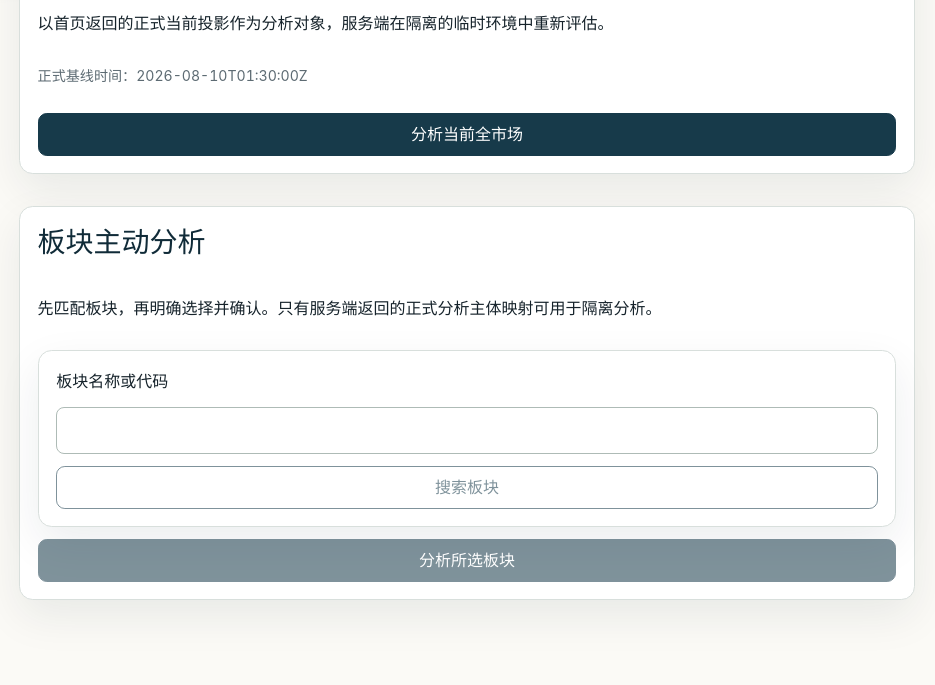
Scenario: isolated active analysis › does not start a market query while a sector match is pending
The image size is (935, 685).
(page scrolled)
Expected: the button "分析当前全市场" is enabled, top-left (38, 113), bottom-right (896, 156)
Type "半导体" into the field labelled "板块名称或代码".
click(467, 430); type("半导体")  # box top-left (56, 407), bottom-right (878, 454)
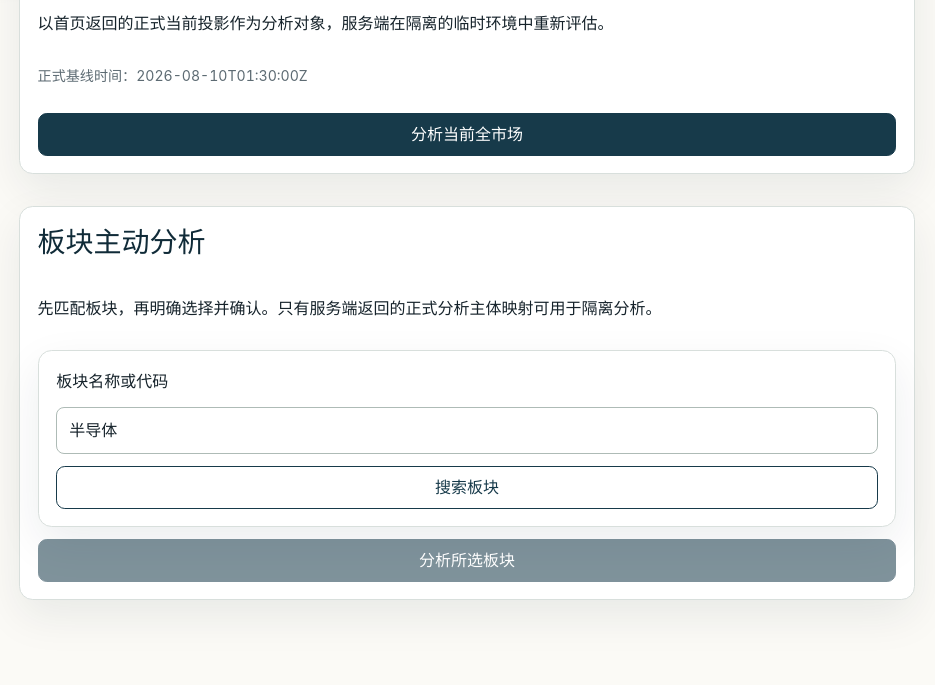
Click the button "搜索板块".
click(467, 487)  # box top-left (56, 466), bottom-right (878, 509)
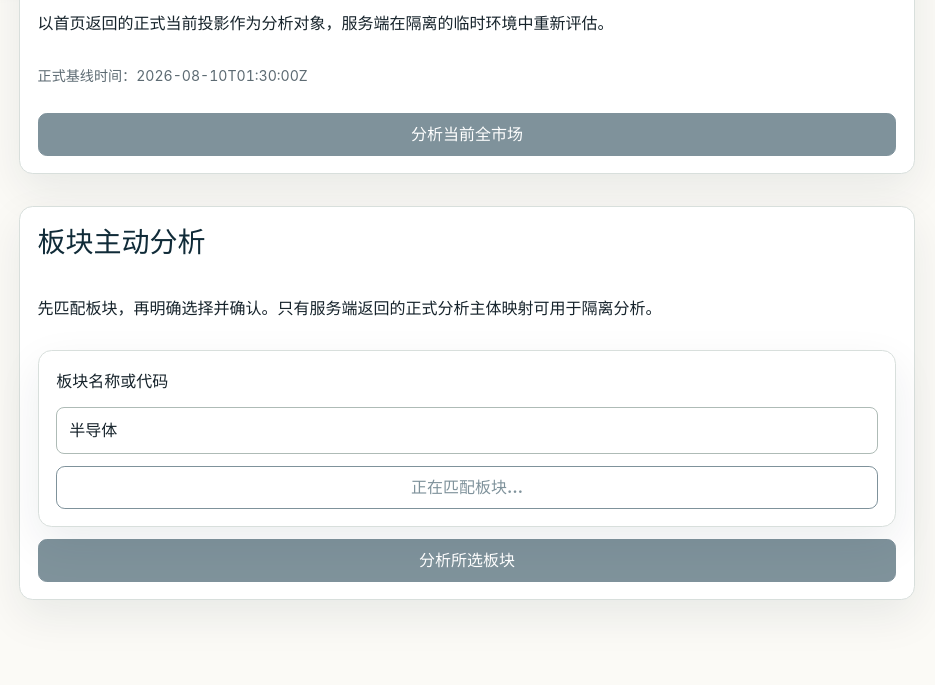
Result: the button "正在匹配板块…" is disabled at top-left (56, 466), bottom-right (878, 509)
Result: the button "分析当前全市场" is disabled
Click the button "分析当前全市场".
click(467, 135)  # box top-left (38, 113), bottom-right (896, 156)
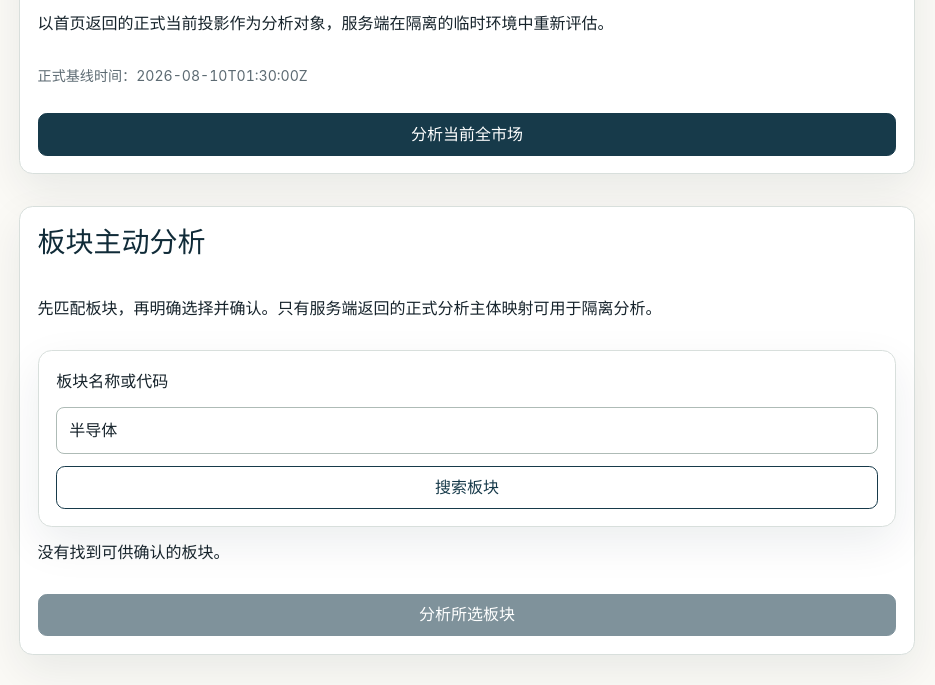
Result: the text "没有找到可供确认的板块。" is shown at top-left (38, 542), bottom-right (230, 562)
